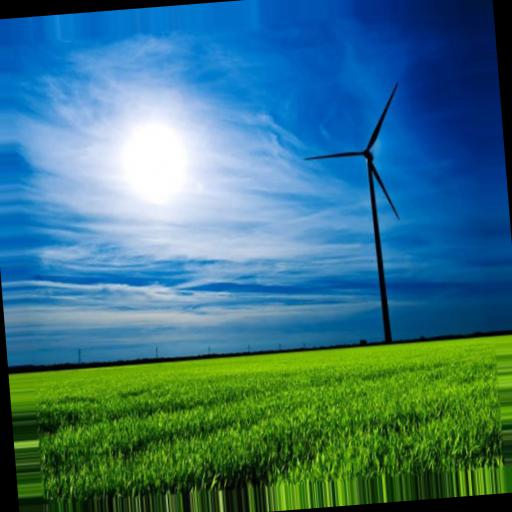wind turbine: (301, 79, 404, 345)
